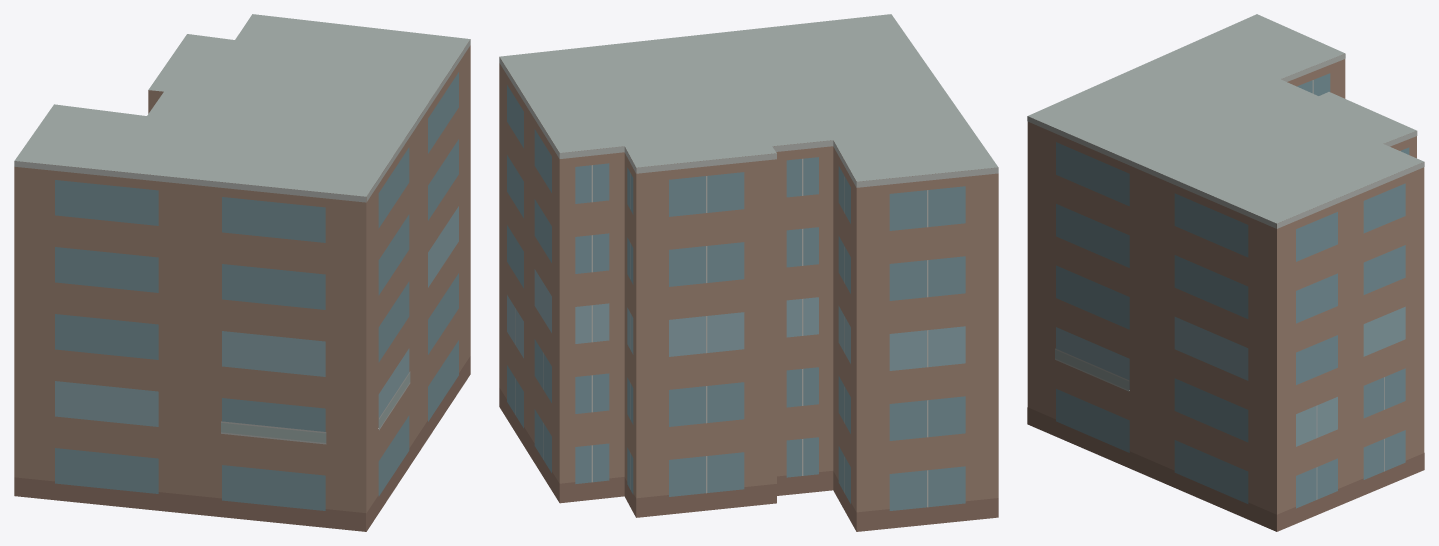
File: survey-upis-32886455.glb
The picture shows the model from 3 angles, left to right: view 1: azimuth 30°, elevation 25°; view 2: azimuth 150°, elevation 25°; view 3: azimuth 270°, elevation 25°; orthographic projection. The views are drawn at different scales.
Parts seen in each view (by area): view 1: survey-upis-32886455.tmp; view 2: survey-upis-32886455.tmp; view 3: survey-upis-32886455.tmp.
Boxes of the visible parts, bbox=[...] form: survey-upis-32886455.tmp: bbox=[14, 14, 470, 531]; survey-upis-32886455.tmp: bbox=[499, 14, 998, 531]; survey-upis-32886455.tmp: bbox=[1027, 14, 1424, 531].
Bounding box in the file's own units: 20.42 × 14 × 16.34.
